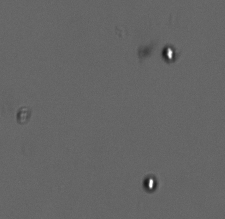Dead Cell: (16, 104, 34, 125)
Living Cell: (140, 174, 160, 193), (160, 44, 180, 62)
